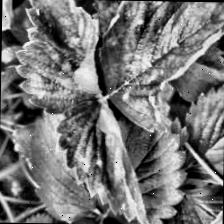Powdery Mildew Leaf: (95, 0, 224, 136), (52, 99, 150, 224), (11, 0, 103, 116)
